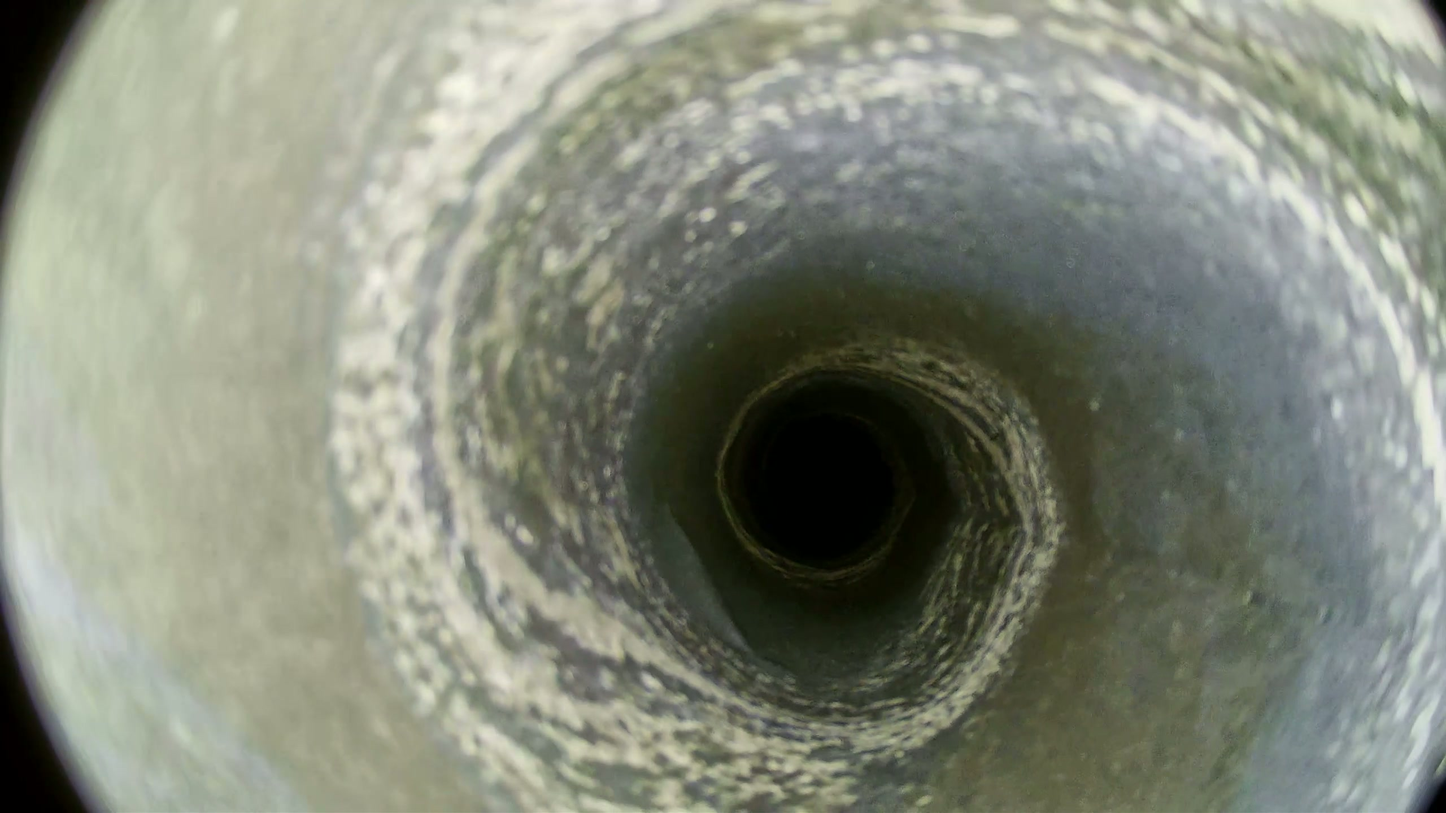hole: (764, 418, 887, 538)
